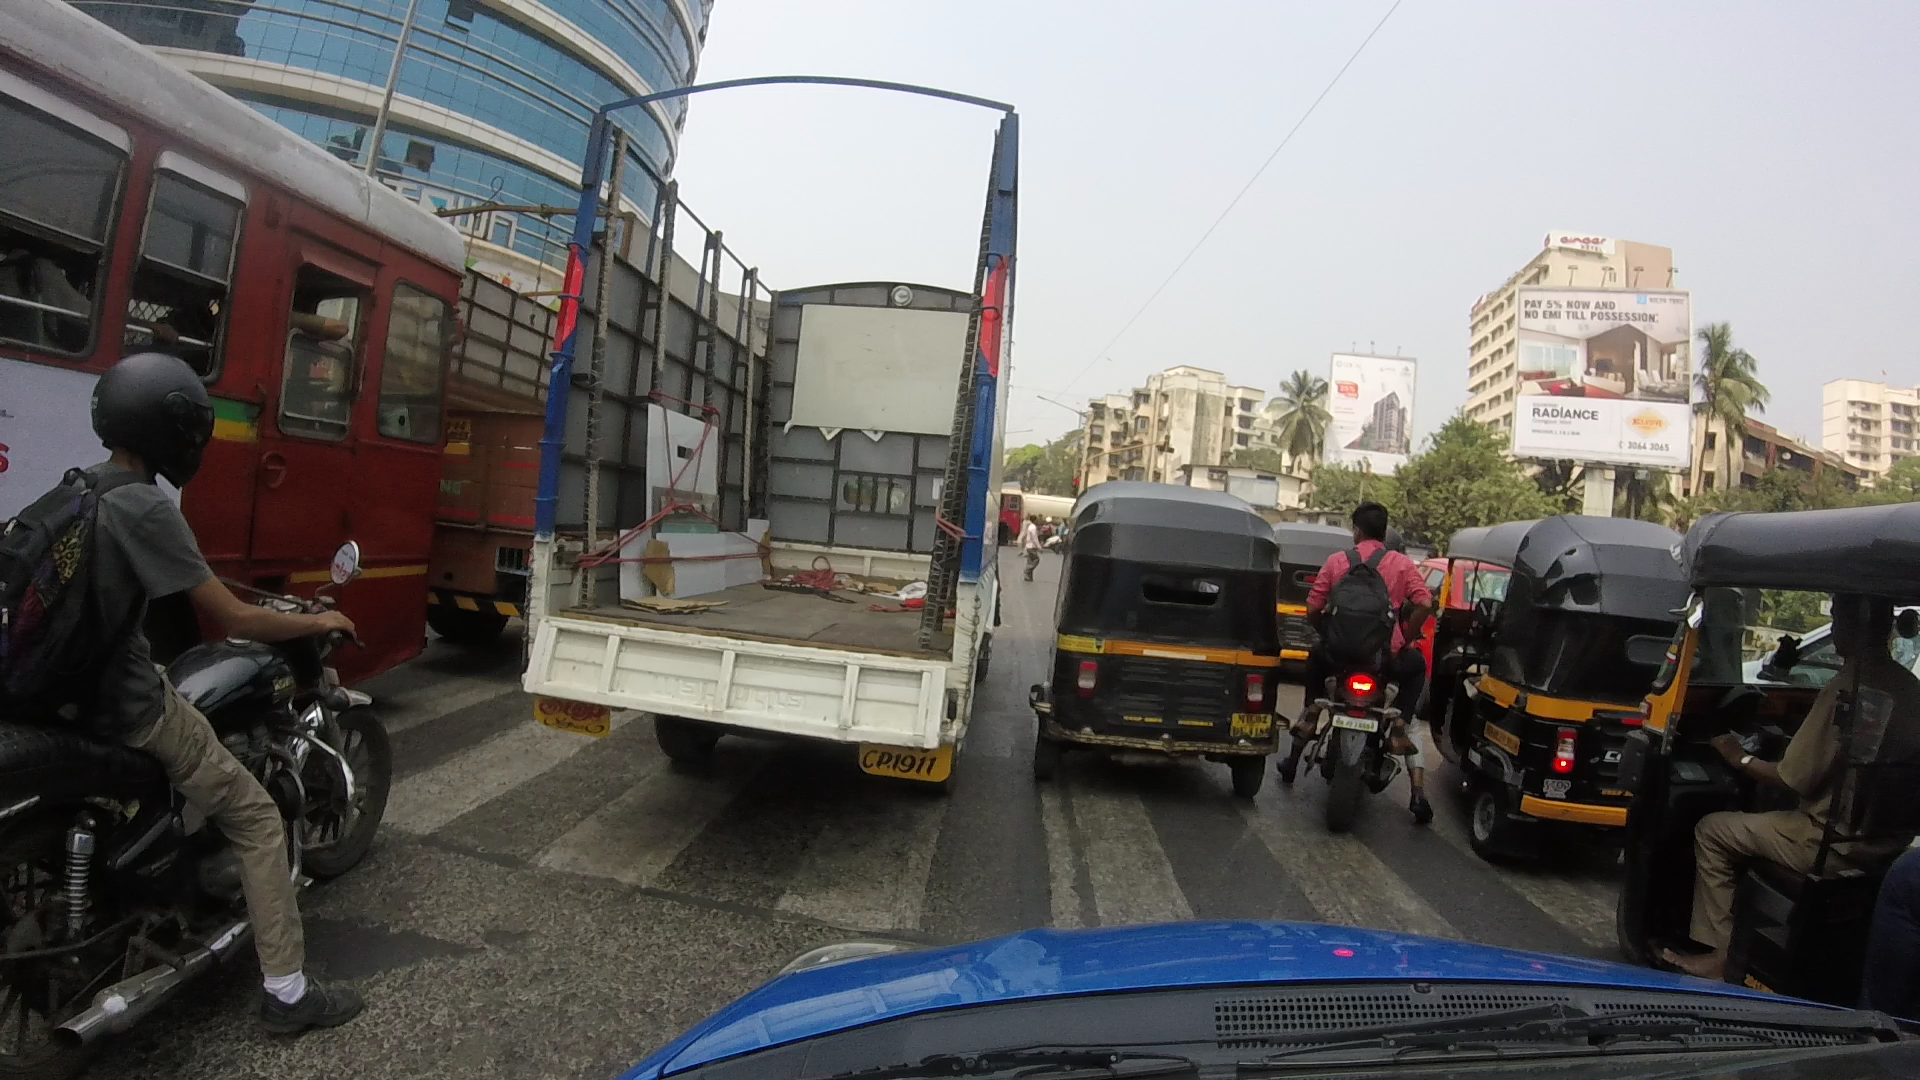bike/scooter: (4, 353, 404, 1077), (1288, 506, 1455, 825)
bus: (1, 1, 462, 690)
rickshaw: (1639, 506, 1920, 965), (1033, 475, 1295, 790), (1439, 520, 1683, 845)
truck: (506, 80, 1036, 775)
